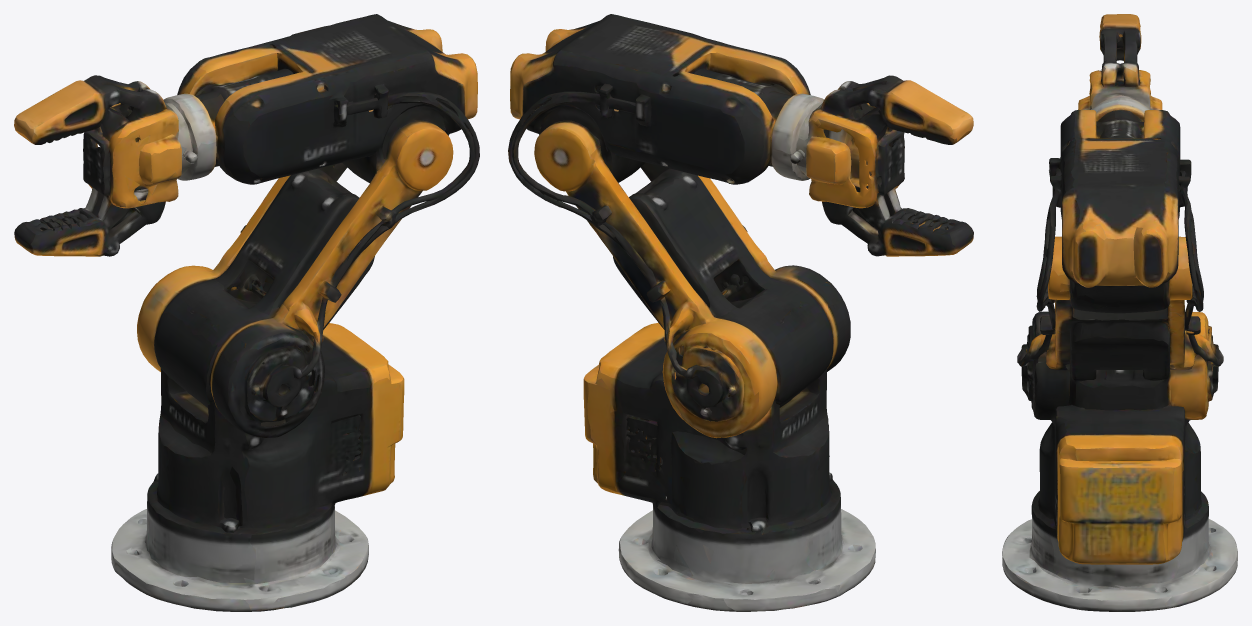
3 renders of one model, left to right at view 1: azimuth 30°, elevation 25°; view 2: azimuth 150°, elevation 25°; view 3: azimuth 270°, elevation 25°, orthographic. The views are drawn at different scales.
Parts seen in each view (by area): view 1: geometry_0; view 2: geometry_0; view 3: geometry_0.
Part boxes in pixels (x1,y1,x2,y2): geometry_0: [14, 14, 479, 611]; geometry_0: [508, 14, 973, 611]; geometry_0: [1002, 14, 1237, 611].
Bounding box in the file's own units: 0.5337 × 0.6 × 0.272.
1 material, 1 textured.
